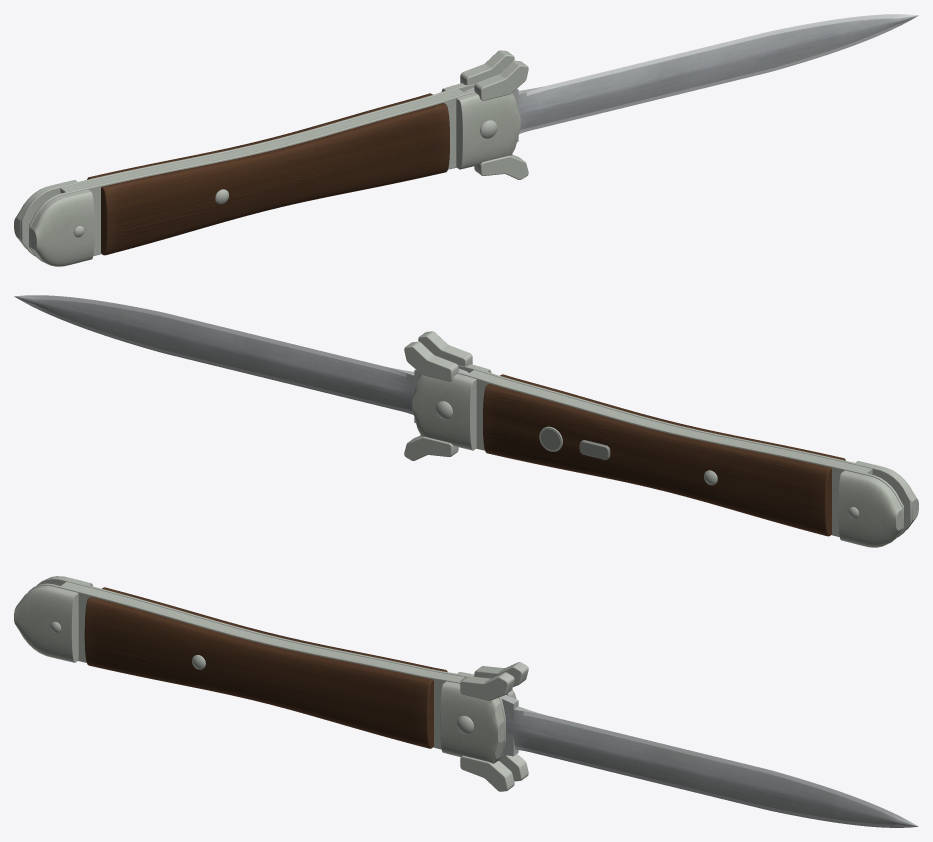
File: stiletto.glb
3 views of the same model, one above another, from view 1: azimuth 30°, elevation 25°; view 2: azimuth 150°, elevation 25°; view 3: azimuth 330°, elevation 25° (orthographic).
Visible parts, largest first — view 1: body, blade_pivot_mesh; view 2: body, blade_pivot_mesh; view 3: body, blade_pivot_mesh.
Part boxes in pixels (x1,y1,x2,y2): body: [14, 50, 528, 266]; blade_pivot_mesh: [464, 14, 918, 141]; body: [404, 331, 918, 547]; blade_pivot_mesh: [14, 295, 468, 422]; body: [14, 576, 528, 791]; blade_pivot_mesh: [500, 695, 918, 827].
Size of the model in its own units: 0.275 by 0.0338 by 0.0146.
Materials: 5 (5 with a texture image).
